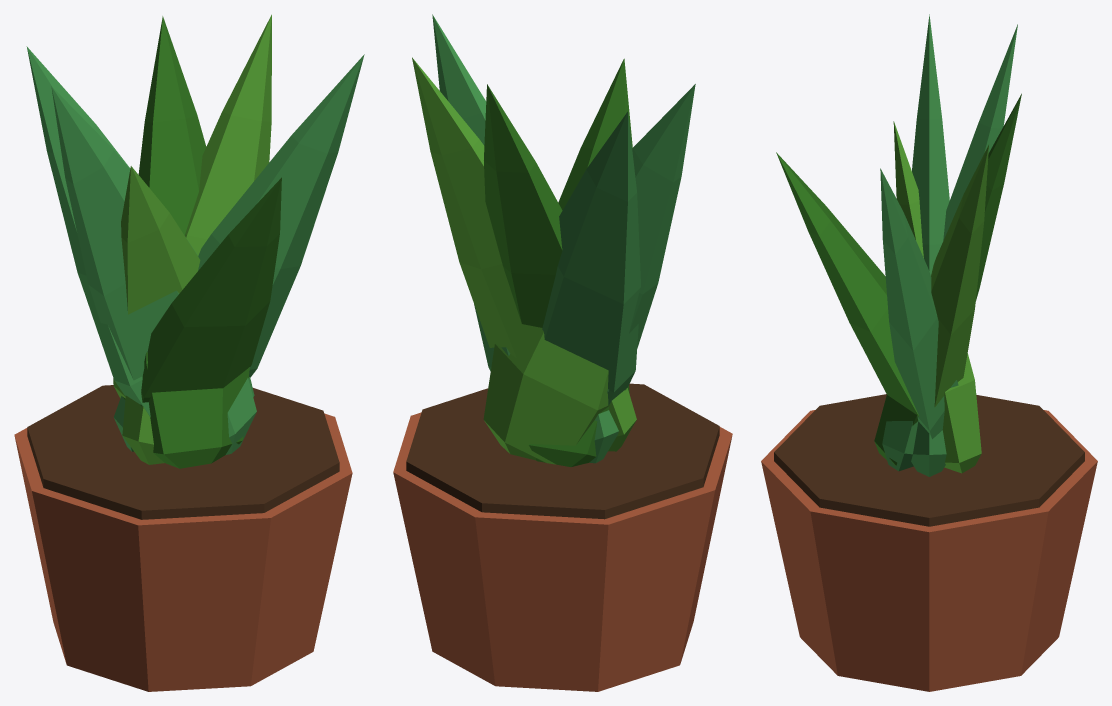
The model's file is plant.glb.
3 renders of one model, left to right at view 1: azimuth 30°, elevation 25°; view 2: azimuth 150°, elevation 25°; view 3: azimuth 270°, elevation 25°, orthographic. The views are drawn at different scales.
Visible parts, largest first — view 1: plant; view 2: plant; view 3: plant.
Boxes of the visible parts, <box> form: plant: <box>14,14,364,691</box>; plant: <box>393,14,732,691</box>; plant: <box>761,14,1097,691</box>.
Size of the model in its own units: 0.5269 by 0.9572 by 0.52.
